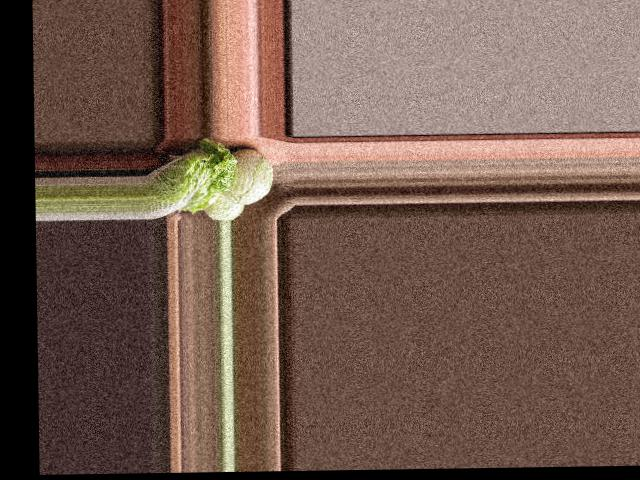lettuce: (146, 136, 238, 216)
